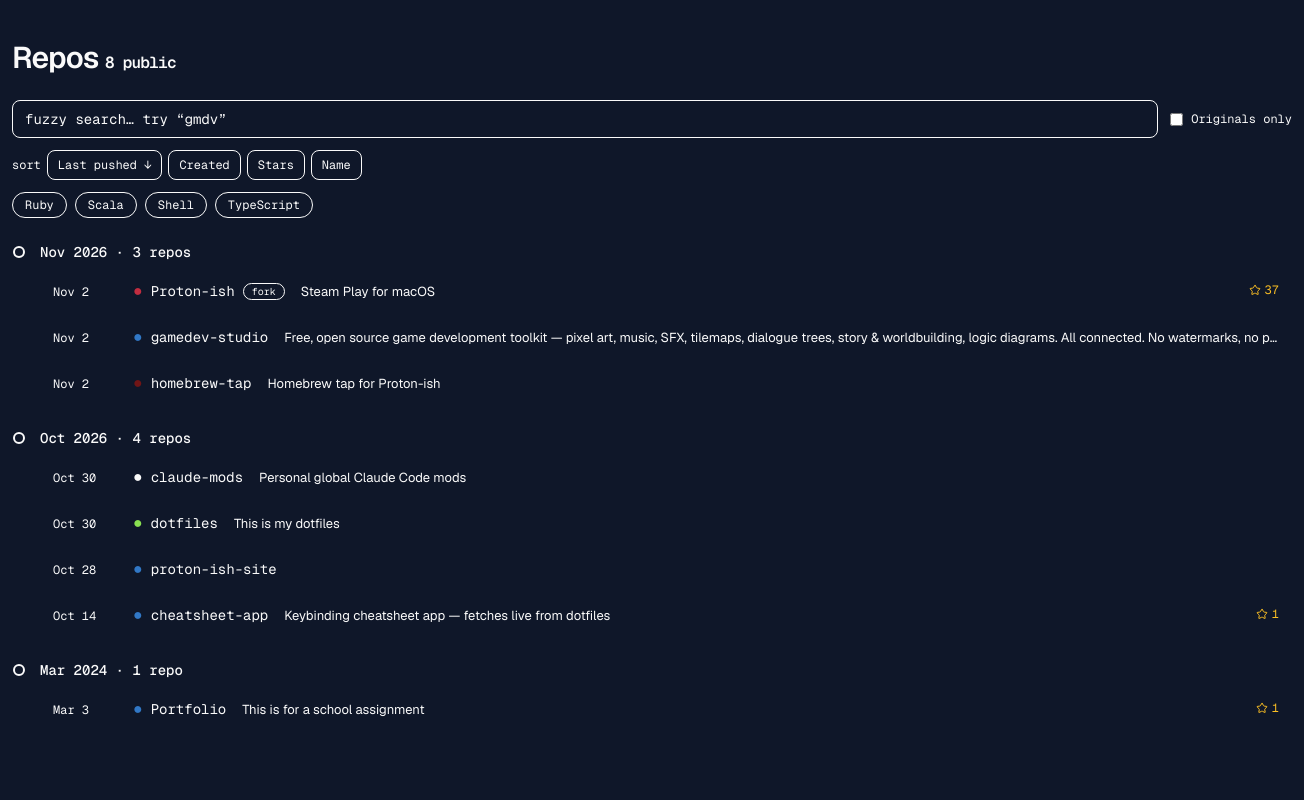
Test: RepoBrowser › should sort by name, A to Z, ignoring case
Click the button "Name". click: coordinates (336, 165)
box: [311, 150, 362, 180]
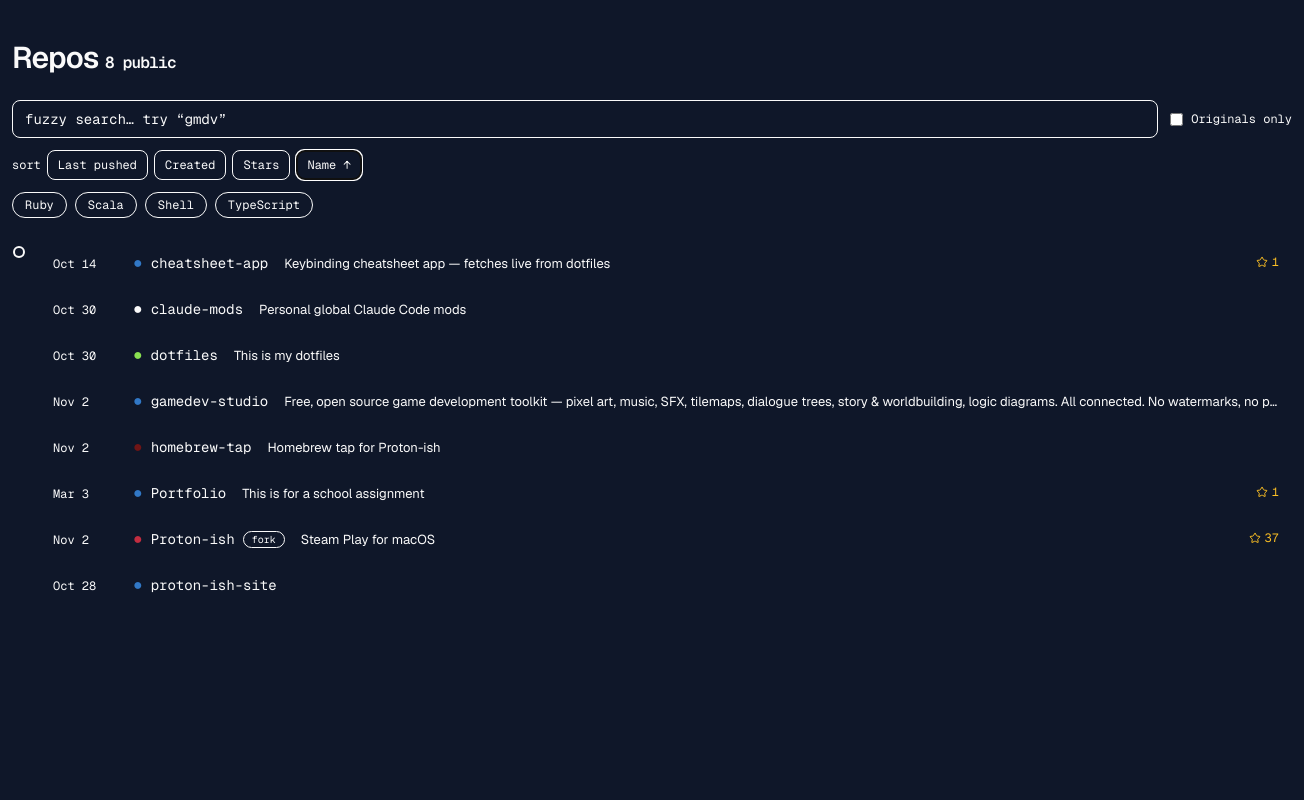
Now the heading "cheatsheet-app" is shown, box [151, 253, 268, 273]
